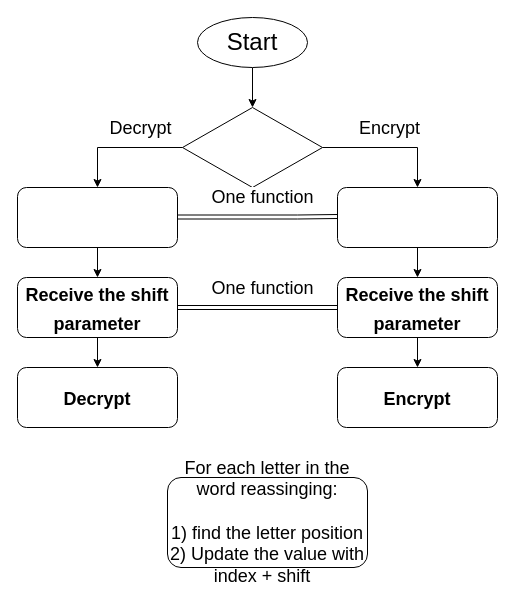
Some shapes in this 515 by 605 pixel diagram are drawn without their labels. Here are the shapes that lost their labels. From the top down, the centre of each, then its label:
the point at 252,147: Encrypt or decrypt
the point at 97,217: Receive the string to decrypt
the point at 417,217: Receive the string to encrypt
